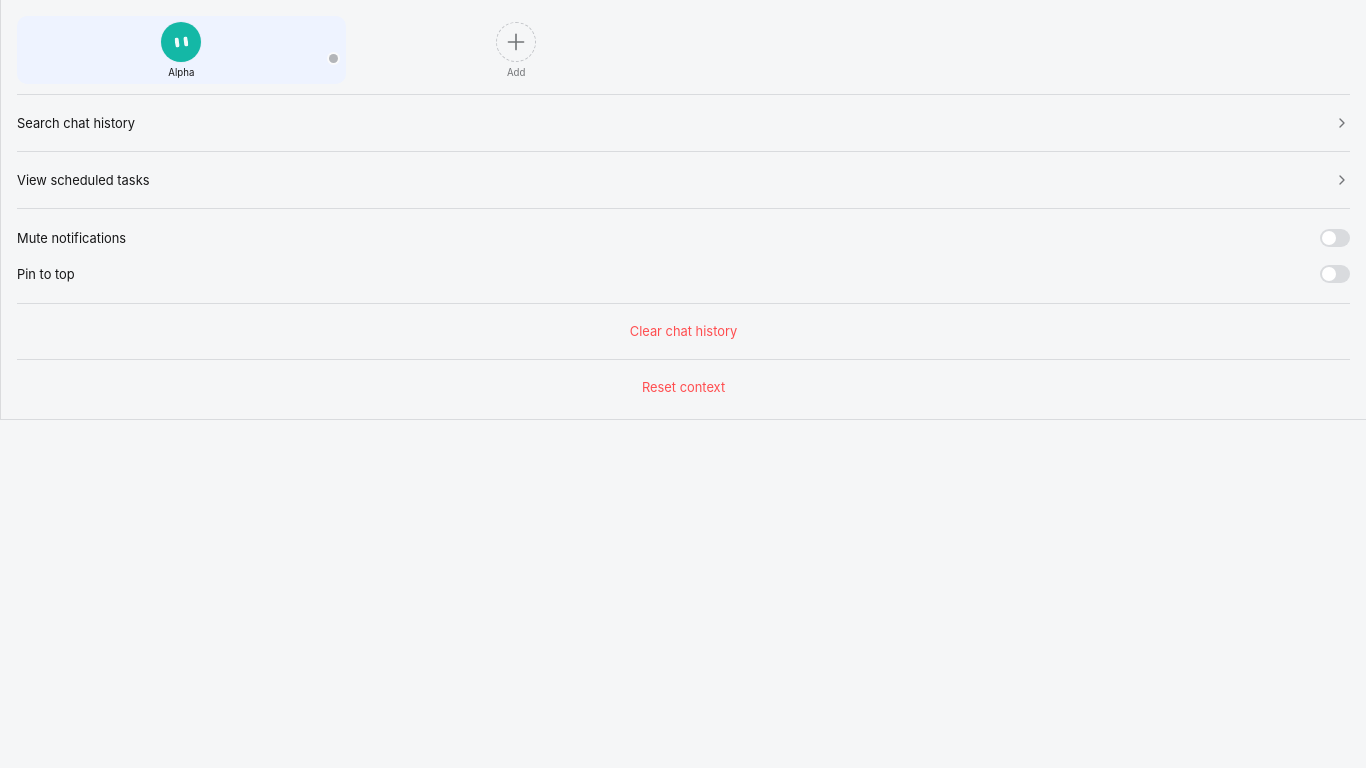
Test: chat details rail › opens chat history and scheduled tasks in separate dialogs
The width and height of the screenshot is (1366, 768).
Click the button with class "detail-search-button" showing "Search chat history" at (76, 123), box x1=17 y1=95 x2=1350 y2=152
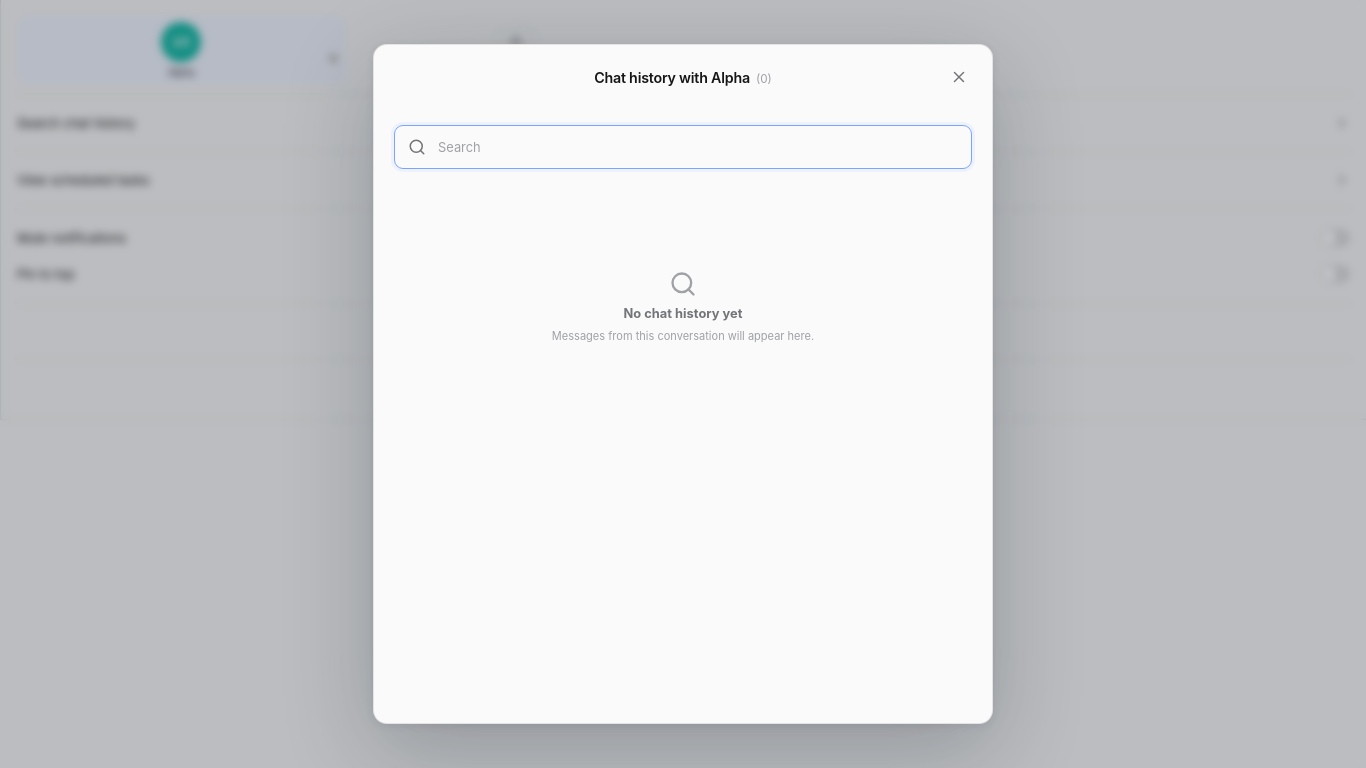
expect the dialog is shown: met, box x1=373 y1=44 x2=993 y2=724
Click the button named "Close" at (959, 77), box x1=944 y1=62 x2=974 y2=92
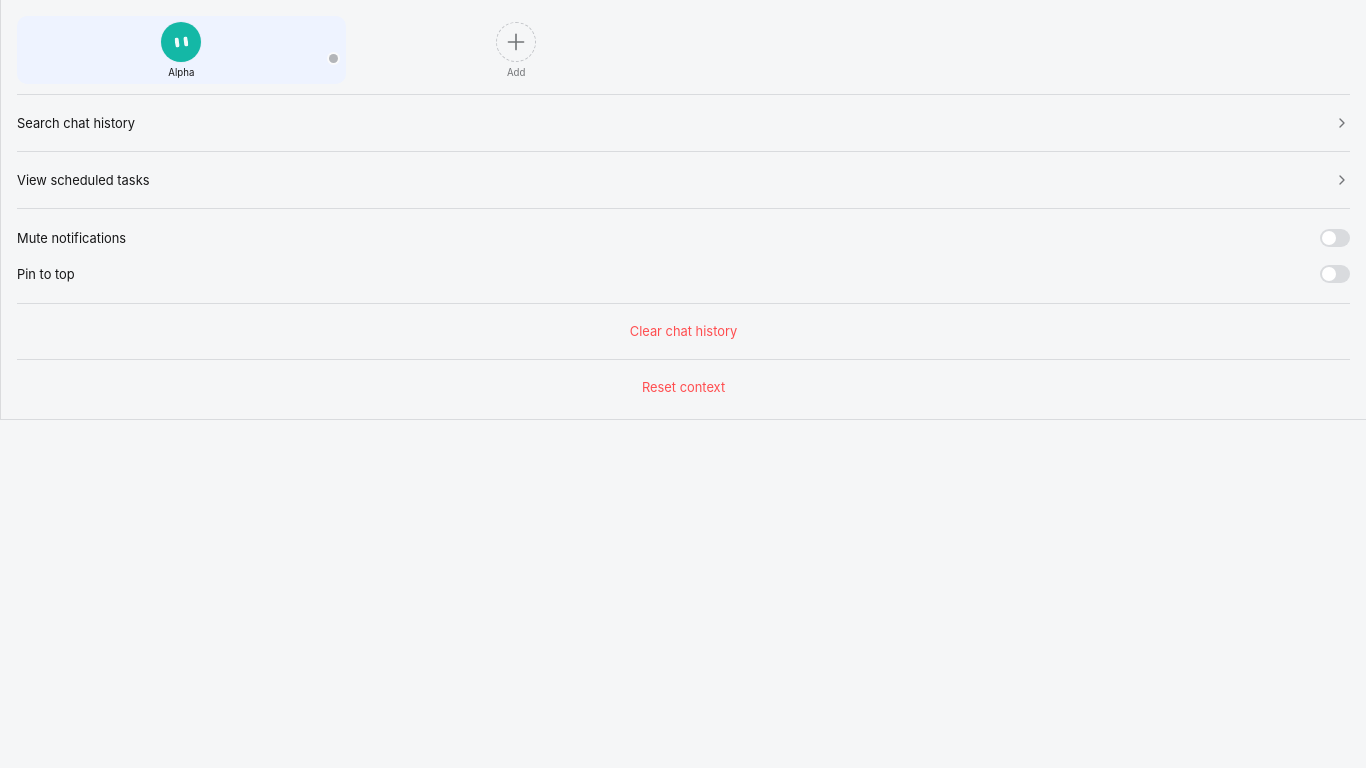
Click the button with class "detail-search-button" showing "View scheduled tasks" at (83, 180), box x1=17 y1=152 x2=1350 y2=209
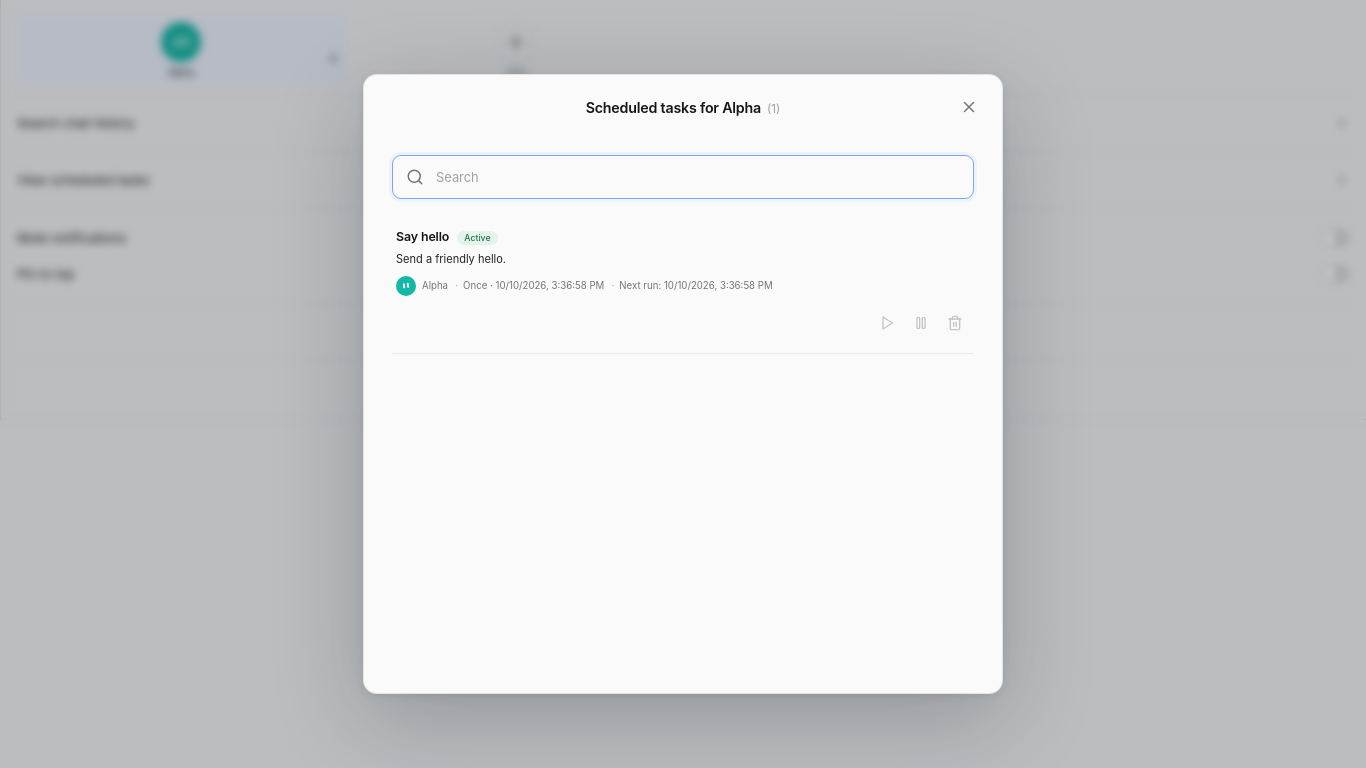
expect the dialog shows "Say hello": met, box x1=396 y1=229 x2=449 y2=244
Click the button named "Close" at (969, 107), box x1=954 y1=92 x2=984 y2=122
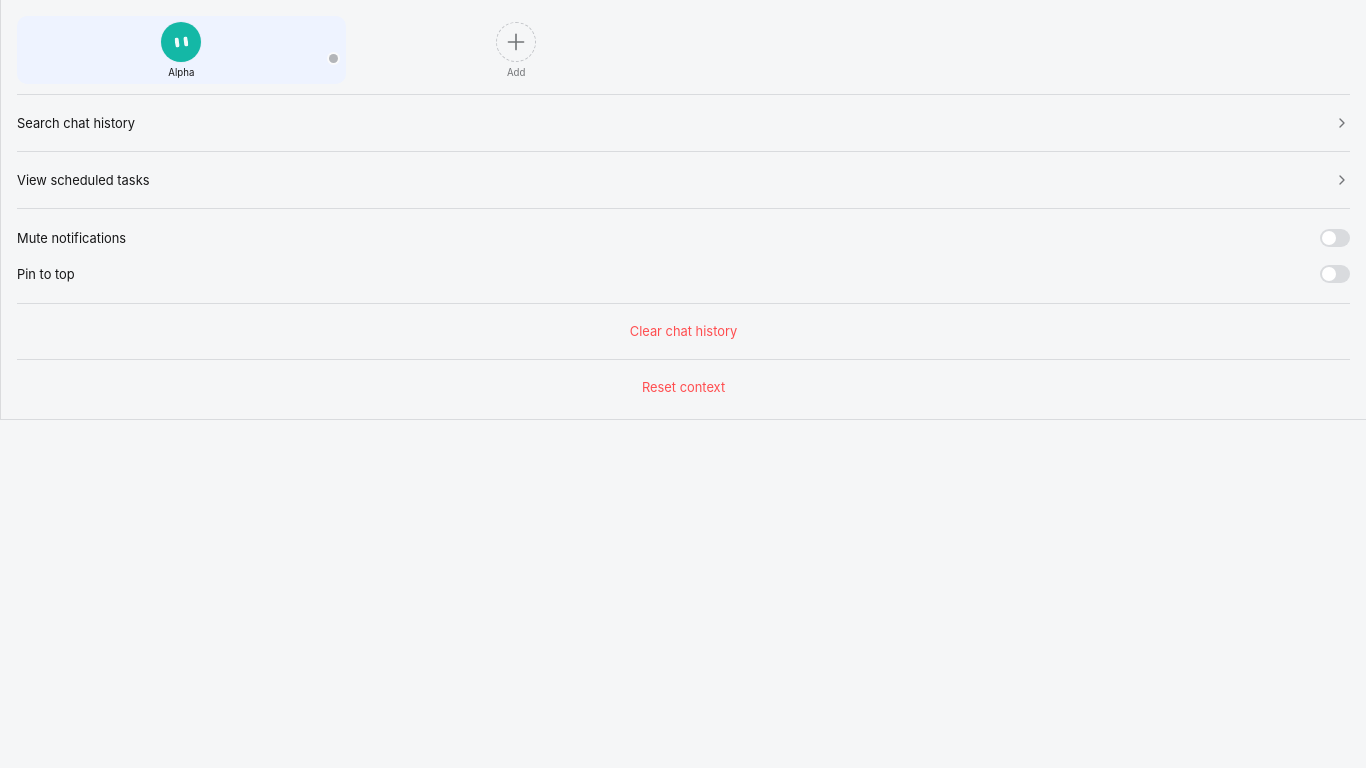
expect the heading "Scheduled tasks for Alpha (1)" is gone: met
